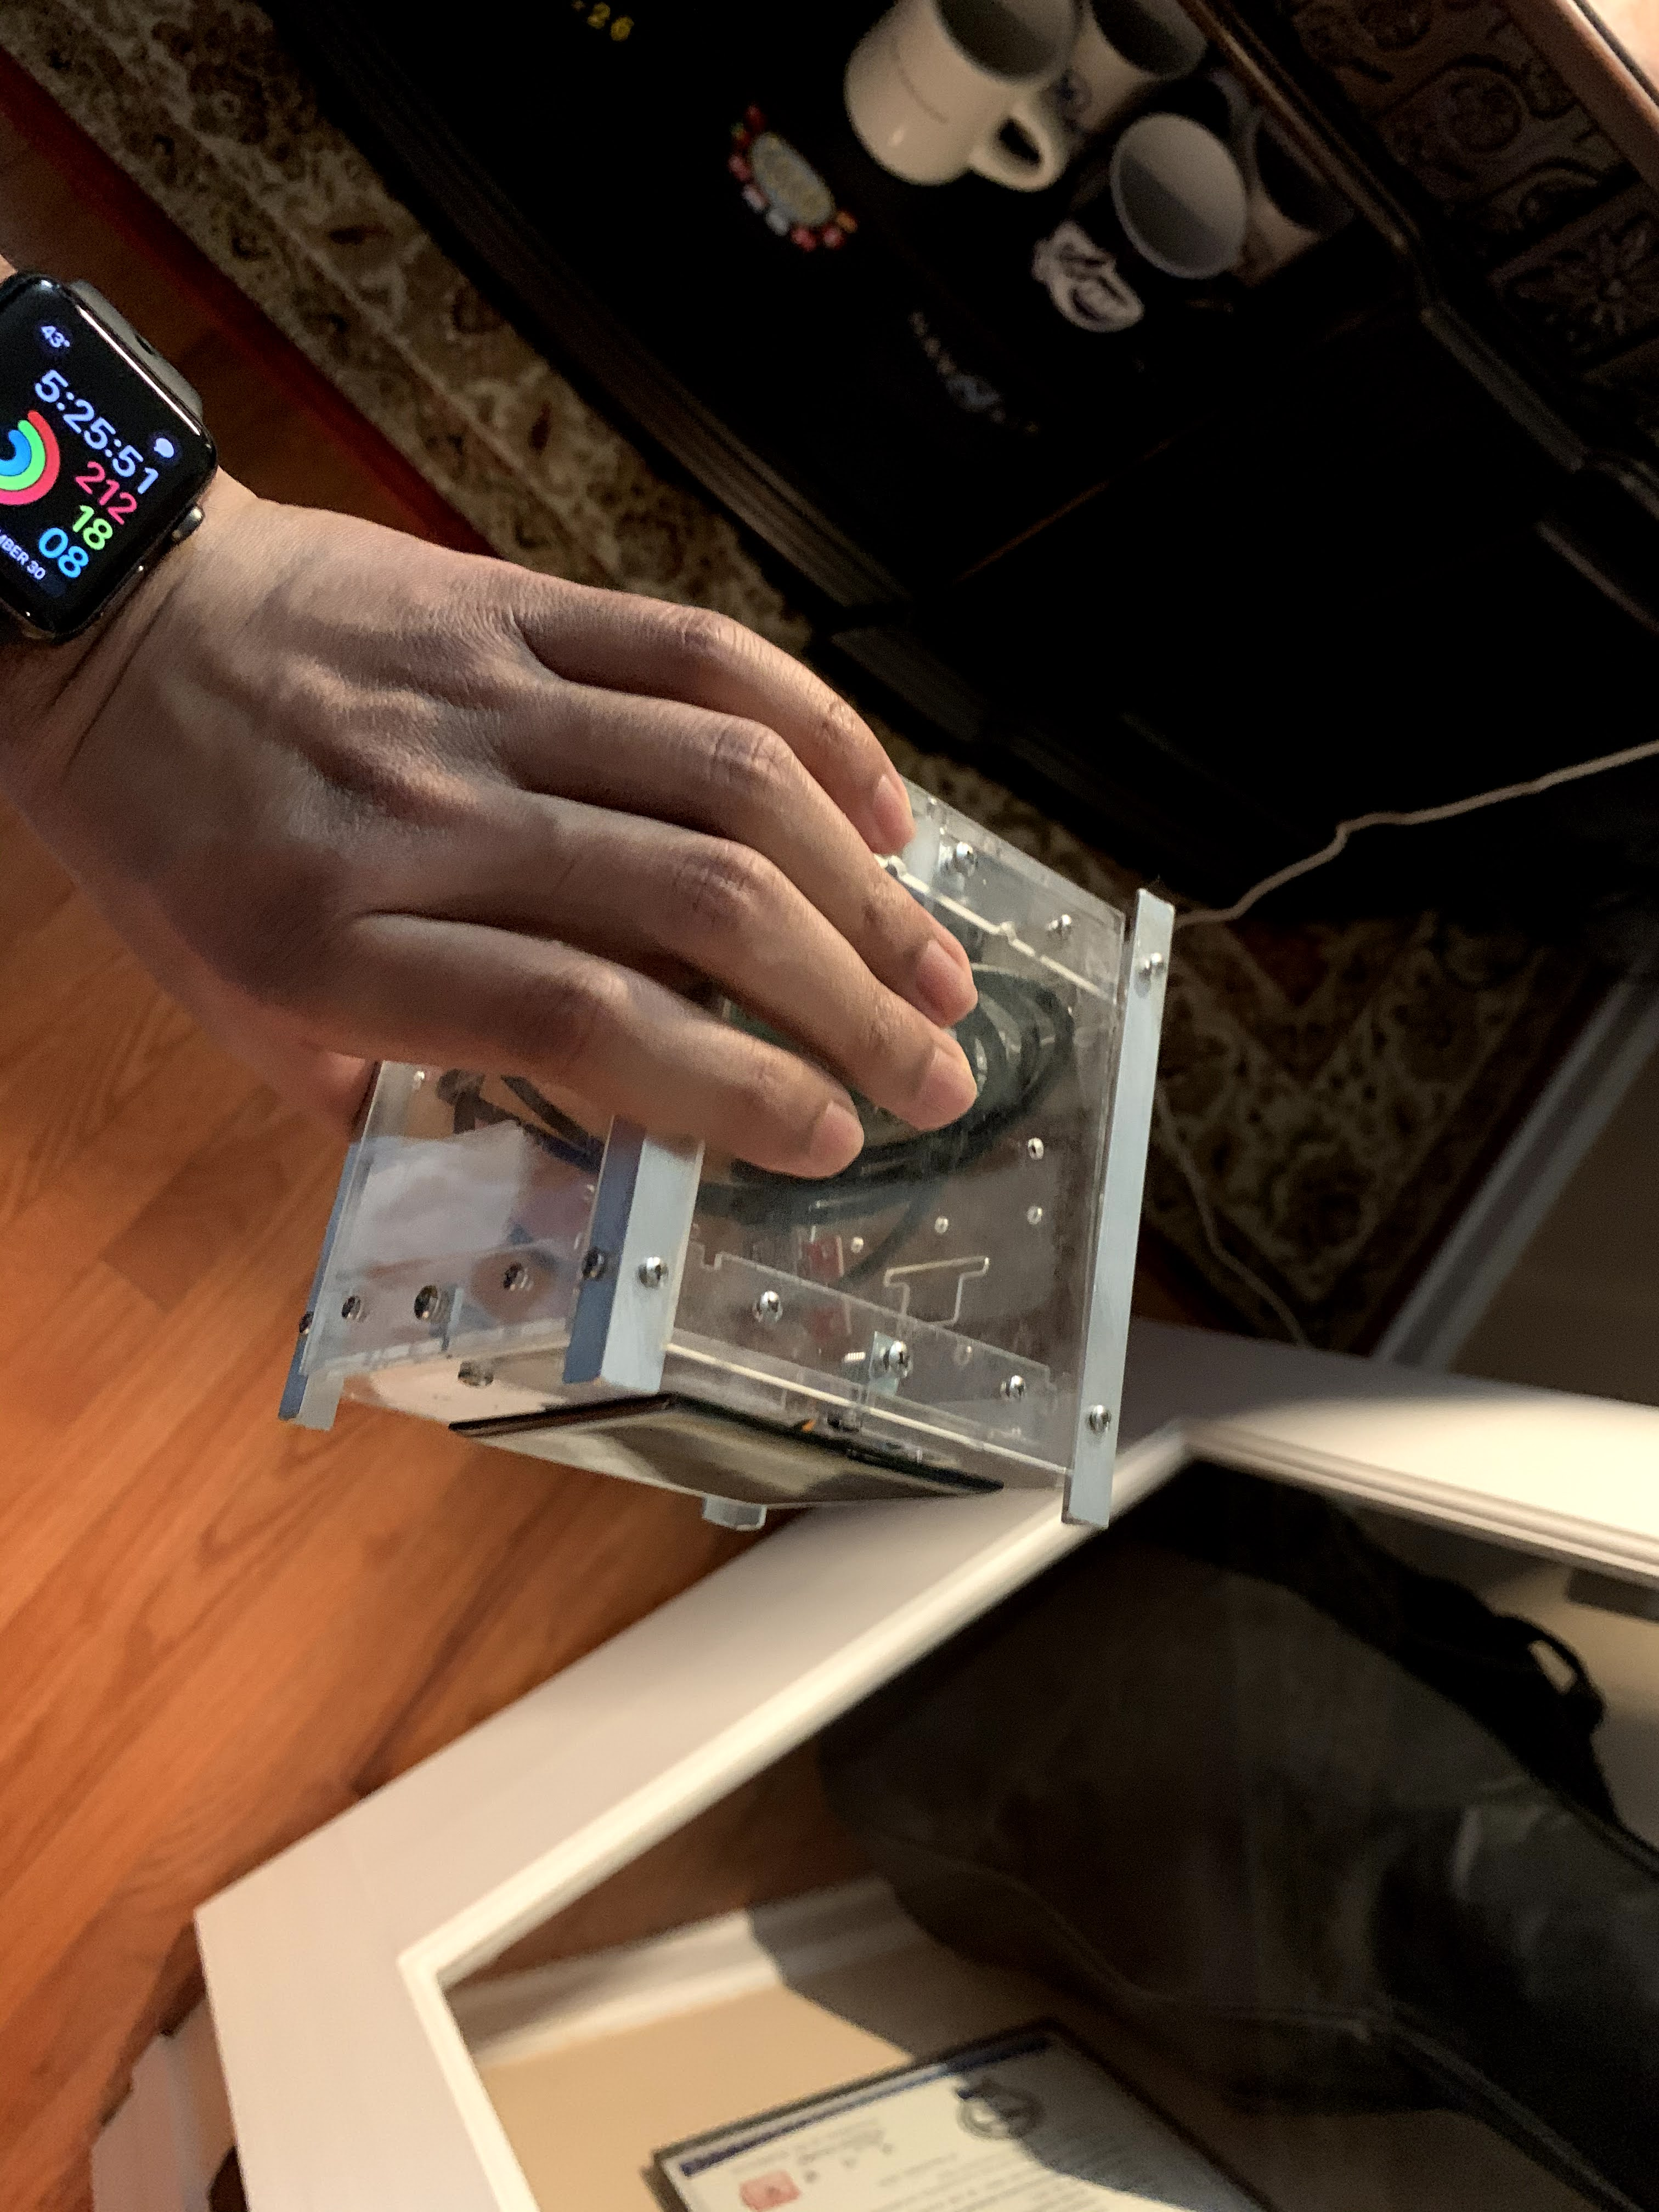Space-debris-cubesat: (301, 782, 1182, 1538)
